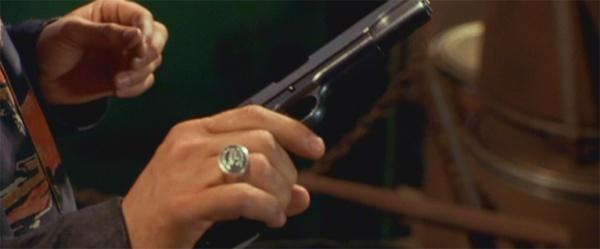Gun: (238, 0, 435, 133)
